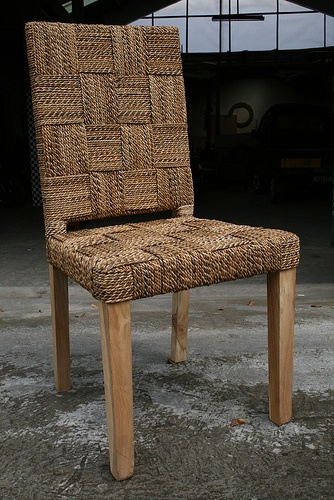obstacle: (26, 22, 298, 479)
